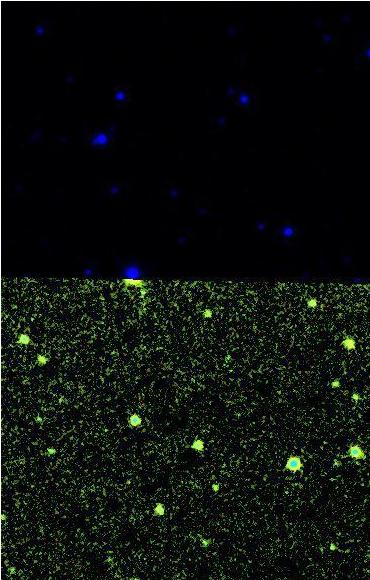star: (302, 534, 332, 564)
